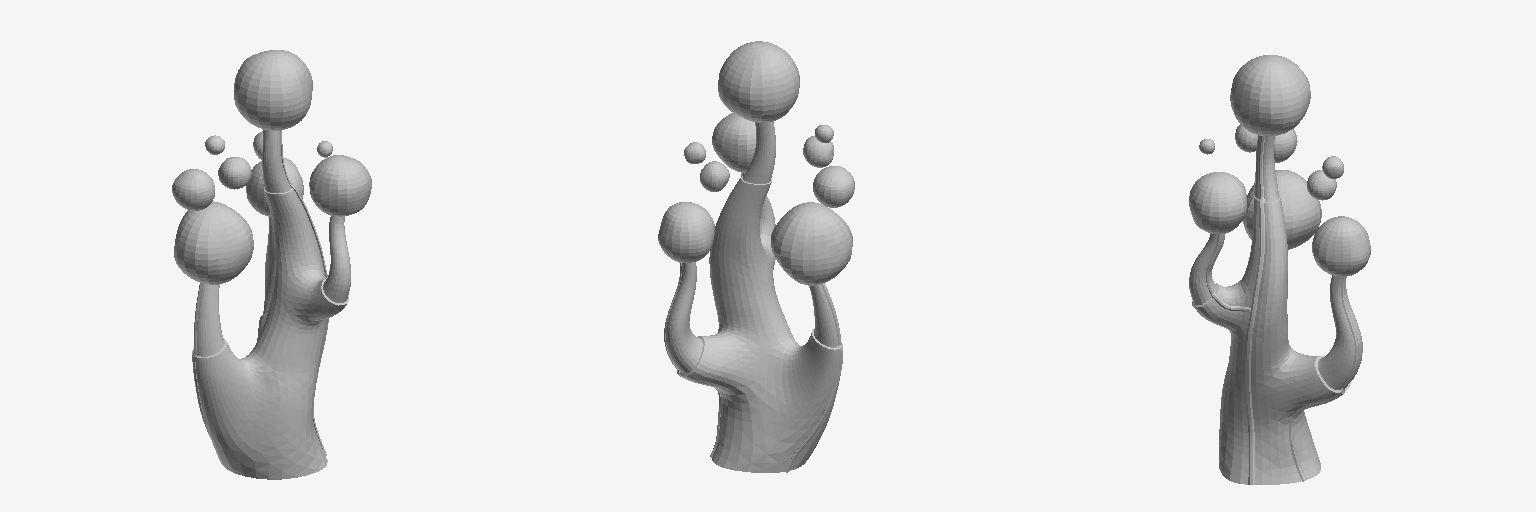
Rendered from tree-02-01.obj.
3 views of the same model, side by side, from view 1: azimuth 30°, elevation 25°; view 2: azimuth 150°, elevation 25°; view 3: azimuth 270°, elevation 25° (orthographic).
Visible parts, largest first — view 1: tree2 trunk5, pSphere1 bubbles tree2, bubbles tree2 pSphere4, bubbles tree2 pSphere2, bubbles tree2 pSphere7, bubbles tree2 pSphere3, tree2 vines, bubbles tree2 pSphere10; view 2: tree2 trunk5, pSphere1 bubbles tree2, bubbles tree2 pSphere4, bubbles tree2 pSphere3, bubbles tree2 pSphere2, bubbles tree2 pSphere7, tree2 vines, bubbles tree2 pSphere10, bubbles tree2 pSphere5; view 3: tree2 trunk5, pSphere1 bubbles tree2, tree2 vines, bubbles tree2 pSphere2, bubbles tree2 pSphere3, bubbles tree2 pSphere4, bubbles tree2 pSphere5, bubbles tree2 pSphere7.
Part boxes in pixels (x1,y1,x2,y2): tree2 trunk5: (192, 129, 350, 479); pSphere1 bubbles tree2: (234, 50, 312, 130); bubbles tree2 pSphere4: (174, 201, 253, 284); bubbles tree2 pSphere2: (309, 155, 371, 216); bubbles tree2 pSphere7: (172, 169, 214, 210); bubbles tree2 pSphere3: (246, 157, 303, 216); tree2 vines: (192, 130, 328, 455); bubbles tree2 pSphere10: (218, 157, 251, 189); tree2 trunk5: (666, 121, 842, 472); pSphere1 bubbles tree2: (718, 41, 799, 122); bubbles tree2 pSphere4: (771, 202, 852, 285); bubbles tree2 pSphere3: (658, 202, 714, 263); bubbles tree2 pSphere2: (712, 113, 755, 172); bubbles tree2 pSphere7: (813, 166, 854, 207); tree2 vines: (664, 173, 842, 472); bubbles tree2 pSphere10: (803, 136, 833, 167); bubbles tree2 pSphere5: (700, 161, 729, 191); tree2 trunk5: (1189, 135, 1362, 484); pSphere1 bubbles tree2: (1230, 55, 1310, 135); tree2 vines: (1206, 136, 1358, 484); bubbles tree2 pSphere2: (1189, 172, 1246, 233); bubbles tree2 pSphere3: (1312, 216, 1370, 276); bubbles tree2 pSphere4: (1243, 170, 1321, 249); bubbles tree2 pSphere5: (1307, 170, 1336, 200); bubbles tree2 pSphere7: (1274, 129, 1297, 162).
Bounding box in the file's own units: 1.74 × 4.11 × 1.66.